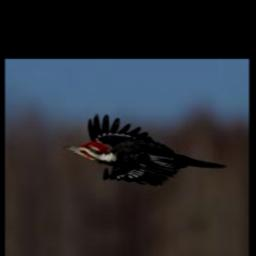Woodpecker: (62, 113, 225, 186)
